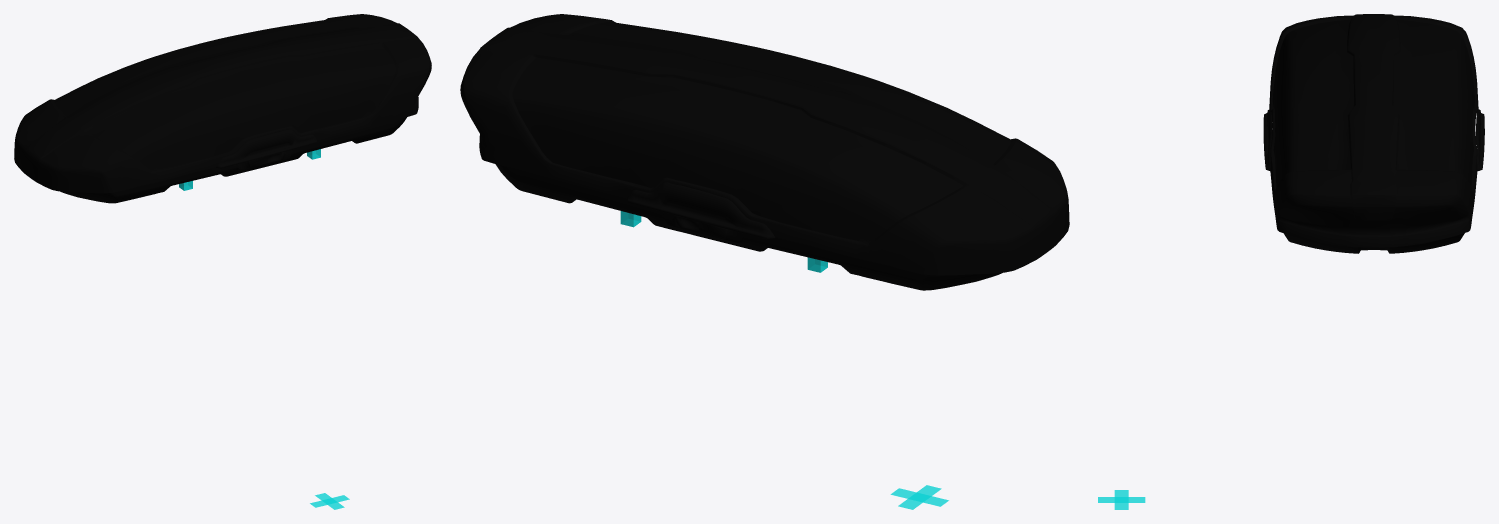
The model's file is PlusTest2.glb.
The picture shows the model from 3 angles, left to right: view 1: azimuth 30°, elevation 25°; view 2: azimuth 150°, elevation 25°; view 3: azimuth 270°, elevation 25°; orthographic projection. The views are drawn at different scales.
Parts seen in each view (by area): view 1: XT_XL_low; view 2: XT_XL_low; view 3: XT_XL_low.
Part boxes in pixels (left/top/right/bottom): XT_XL_low: left=14, top=14, right=431, bottom=203; XT_XL_low: left=460, top=14, right=1069, bottom=290; XT_XL_low: left=1263, top=14, right=1484, bottom=253.
Bounding box in the file's own units: 2.14 × 1.95 × 1.59.
3 materials, 2 textured.
